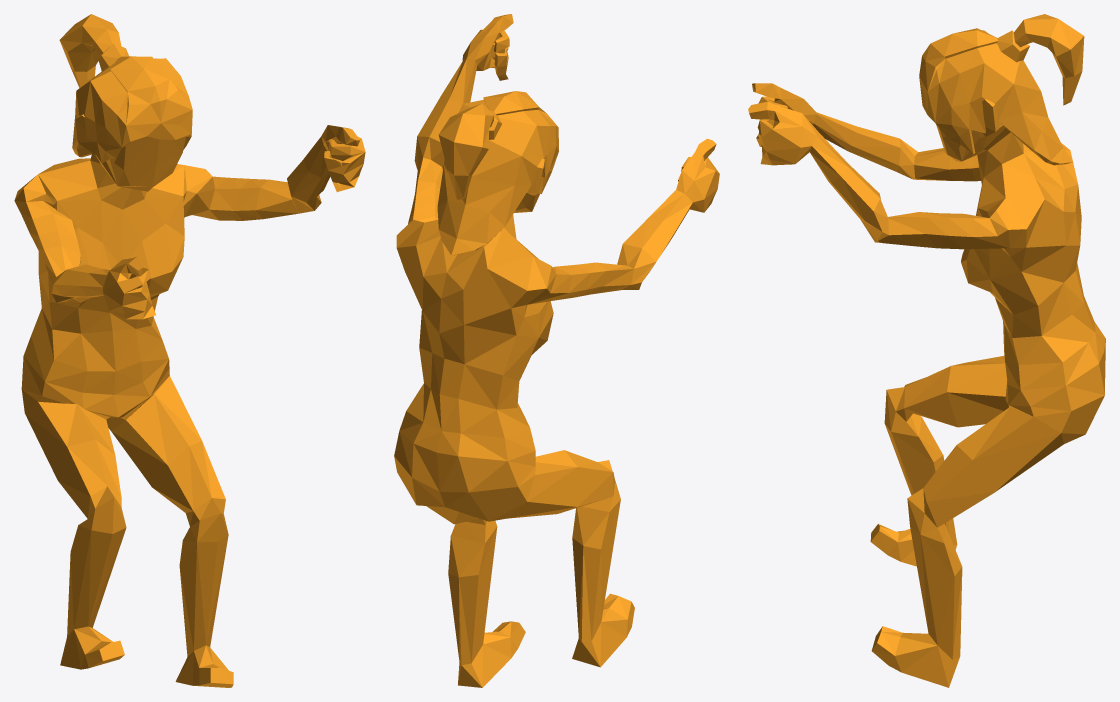
The model's file is SM_Pawn_LadderClimb_Female_01.fbx.
3 views of the same model, side by side, from view 1: azimuth 30°, elevation 25°; view 2: azimuth 150°, elevation 25°; view 3: azimuth 270°, elevation 25° (orthographic). The views are drawn at different scales.
Visible parts, largest first — view 1: SM_Pawn_LadderClimb_Female_01; view 2: SM_Pawn_LadderClimb_Female_01; view 3: SM_Pawn_LadderClimb_Female_01.
Boxes of the visible parts, left/top/right/bottom form: SM_Pawn_LadderClimb_Female_01: left=14, top=14, right=365, bottom=687; SM_Pawn_LadderClimb_Female_01: left=394, top=14, right=719, bottom=687; SM_Pawn_LadderClimb_Female_01: left=748, top=14, right=1105, bottom=687.
Bounding box in the file's own units: 72.13 × 171 × 86.88.
